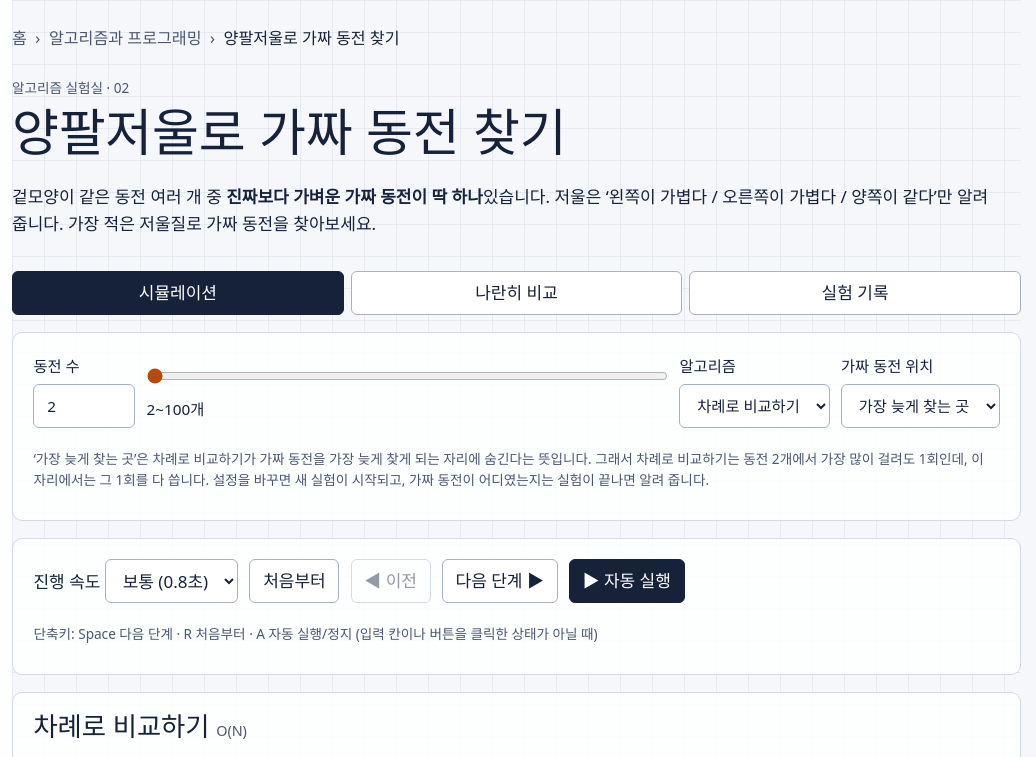
Test case: 범위 밖 동전 수는 주소로 들어오든 입력칸으로 들어오든 같은 값이 된다
Replace the text in the number field labelled "동전 수" with "0": (84, 406) top-left (34, 384), bottom-right (136, 428)
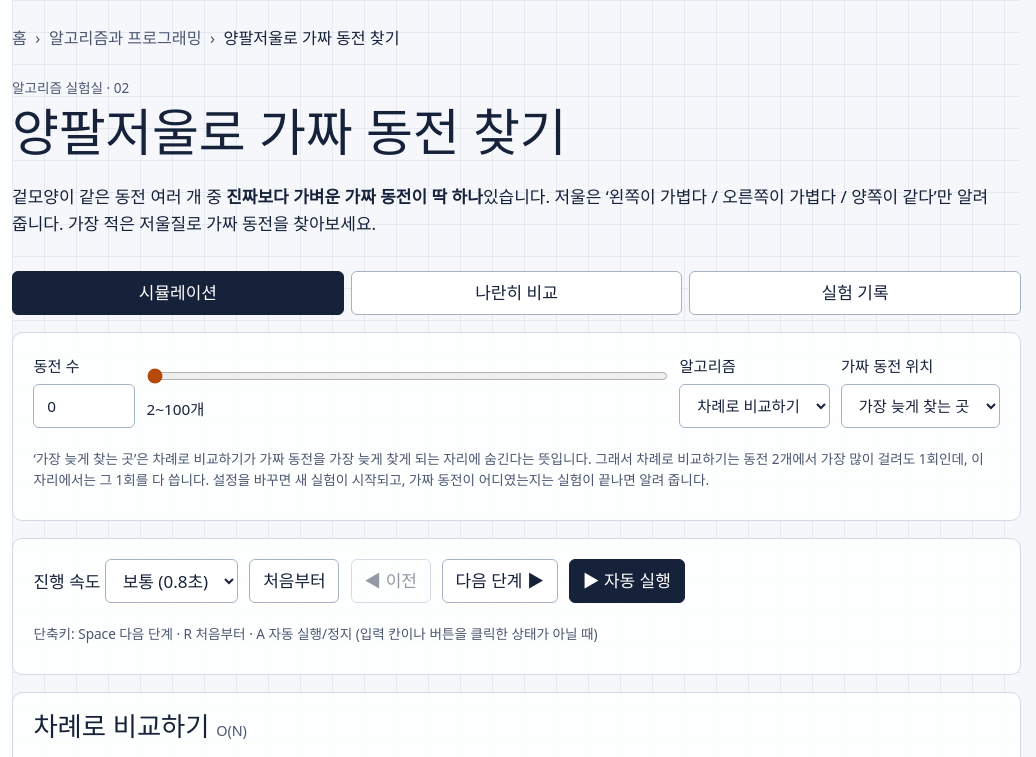
Leave the number field labelled "동전 수", box top-left (34, 384), bottom-right (136, 428)
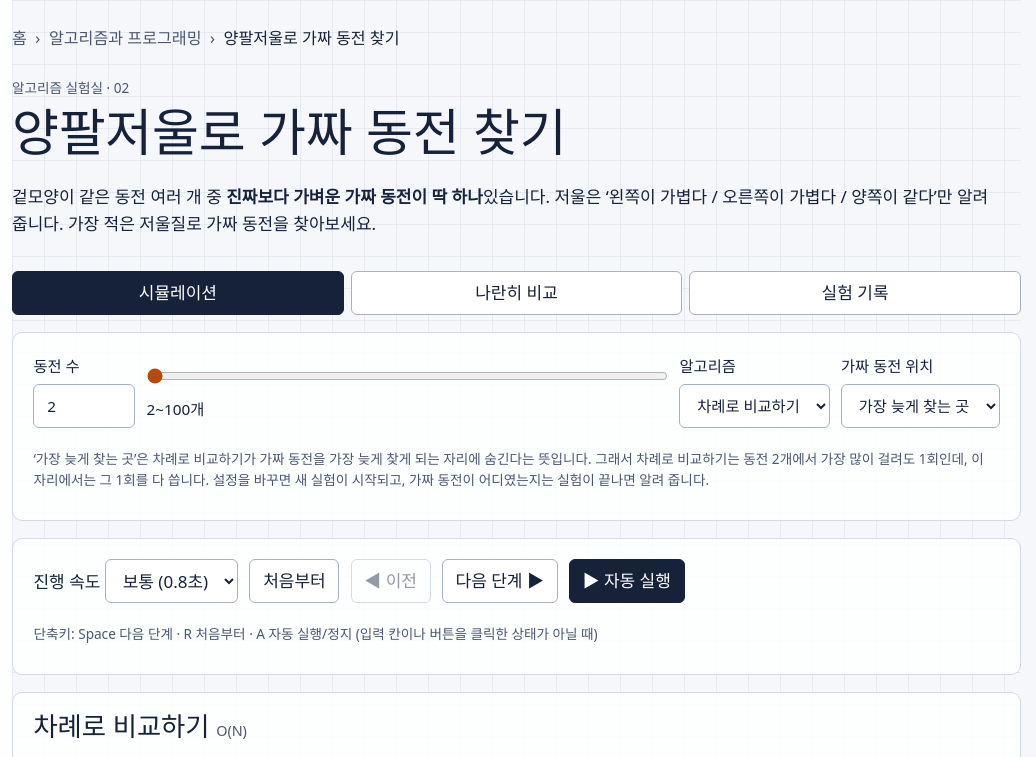
Expected: the number field labelled "동전 수" holds "2", top-left (34, 384), bottom-right (136, 428)
